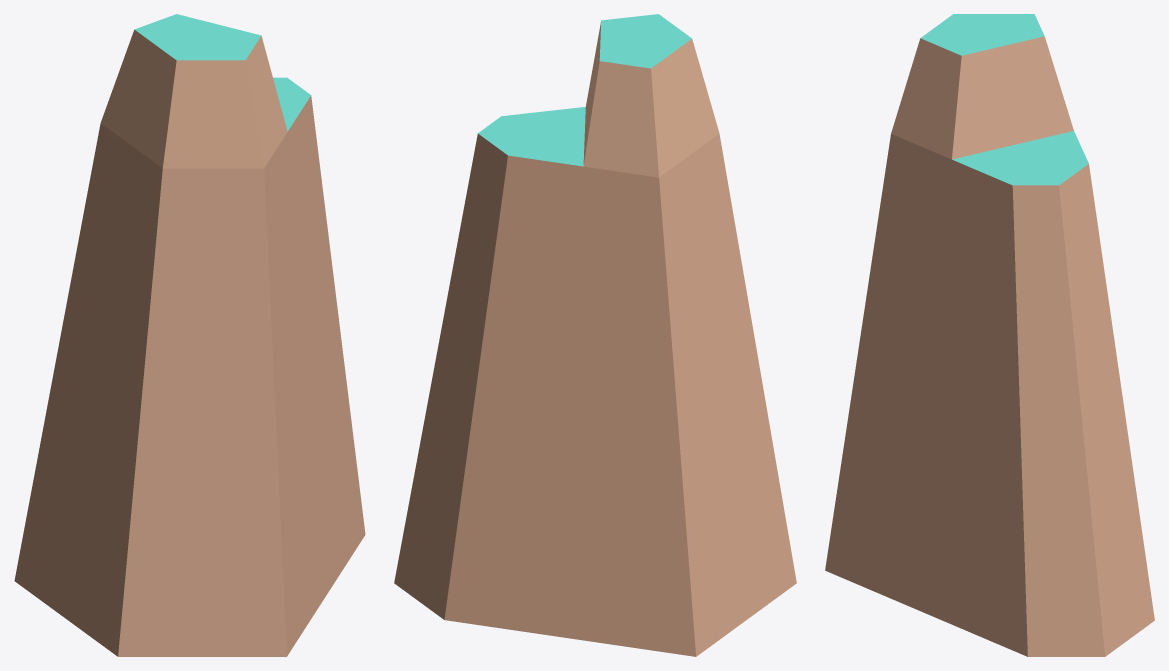
The model's file is rock_tallC.glb.
3 renders of one model, left to right at view 1: azimuth 30°, elevation 25°; view 2: azimuth 150°, elevation 25°; view 3: azimuth 270°, elevation 25°, orthographic. The views are drawn at different scales.
Parts seen in each view (by area): view 1: rock_tallC; view 2: rock_tallC; view 3: rock_tallC.
Boxes of the visible parts, box(x1,y1,x2,y2) form: rock_tallC: box(14, 14, 365, 656); rock_tallC: box(394, 14, 796, 656); rock_tallC: box(825, 14, 1154, 656).
Size of the model in its own units: 0.4562 by 0.7829 by 0.4365.
1 material, 1 textured.
